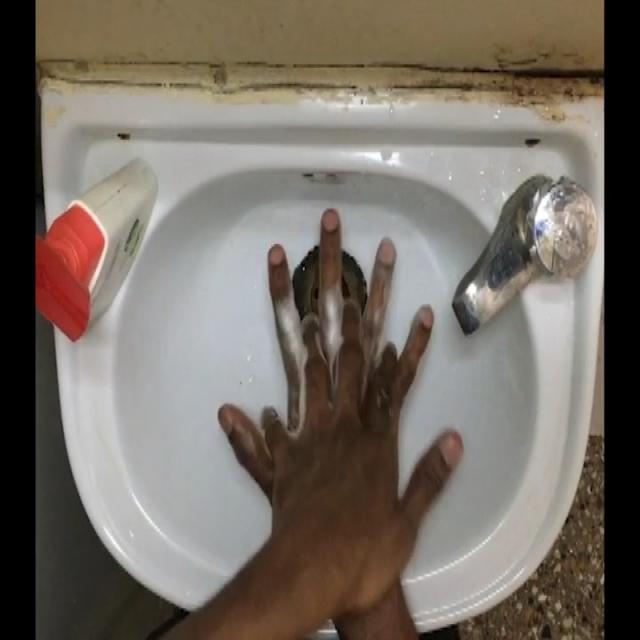step_2: (217, 188, 465, 558)
